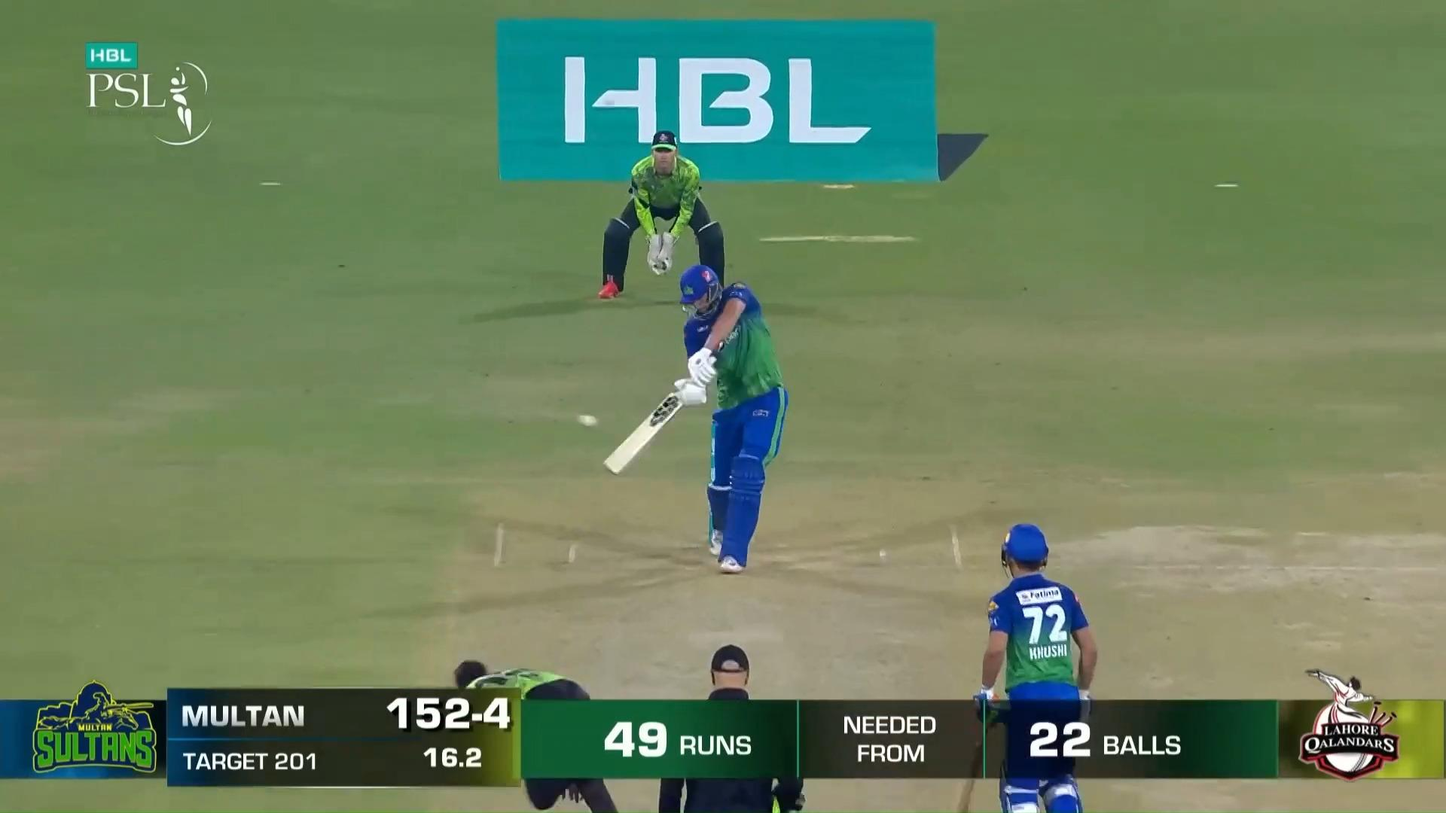batsman: (604, 266, 789, 575)
